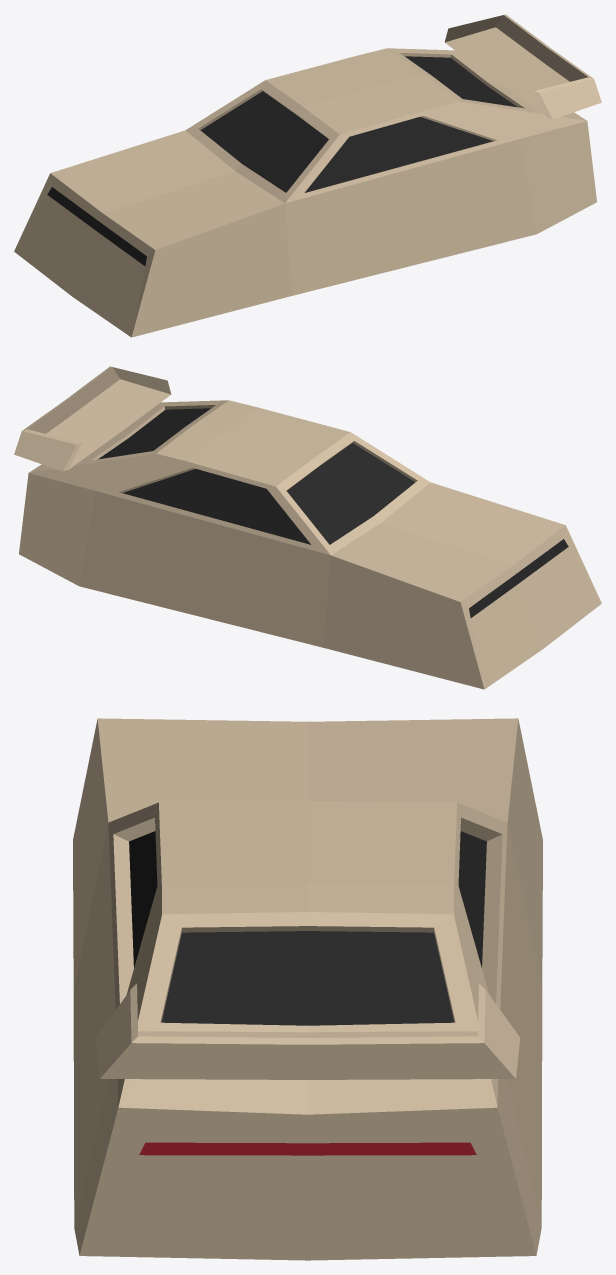
Rendered from Audi Quattro S1.fbx.
3 views of the same model, one above another, from view 1: azimuth 30°, elevation 25°; view 2: azimuth 150°, elevation 25°; view 3: azimuth 270°, elevation 25° (orthographic). The views are drawn at different scales.
Visible parts, largest first — view 1: Cube; view 2: Cube; view 3: Cube.
Boxes of the visible parts, bbox=[...] form: Cube: bbox=[14, 14, 601, 337]; Cube: bbox=[14, 366, 601, 689]; Cube: bbox=[73, 718, 542, 1260].
Bounding box in the file's own units: 379 × 1374 × 586.
